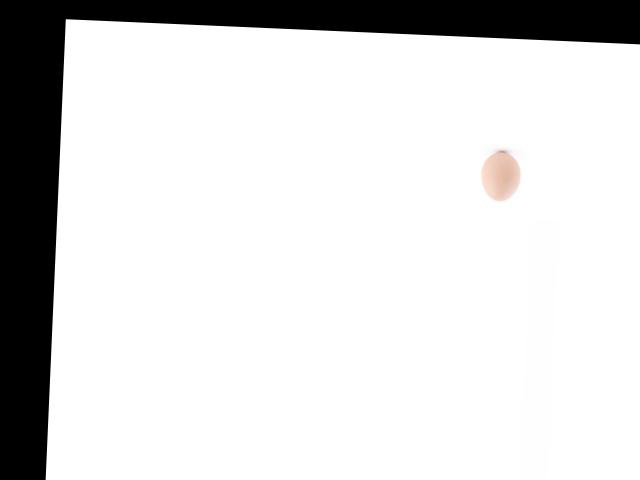egg: (480, 151, 522, 201)
